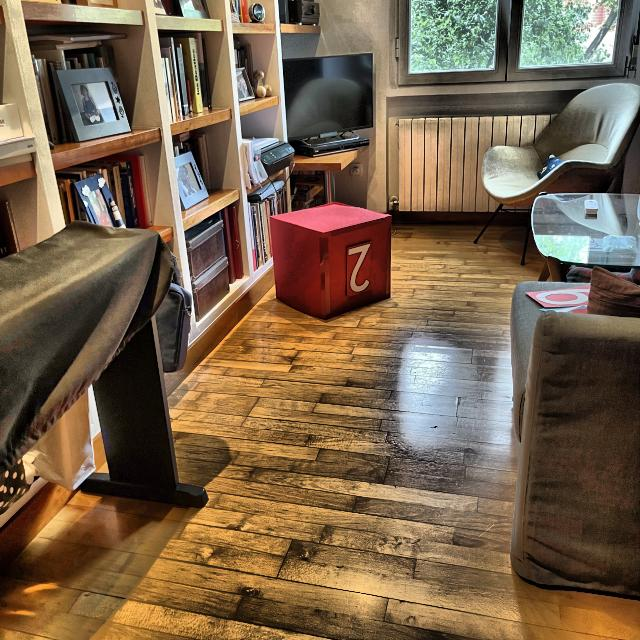red box: (268, 203, 391, 321)
two: (346, 242, 369, 293)
